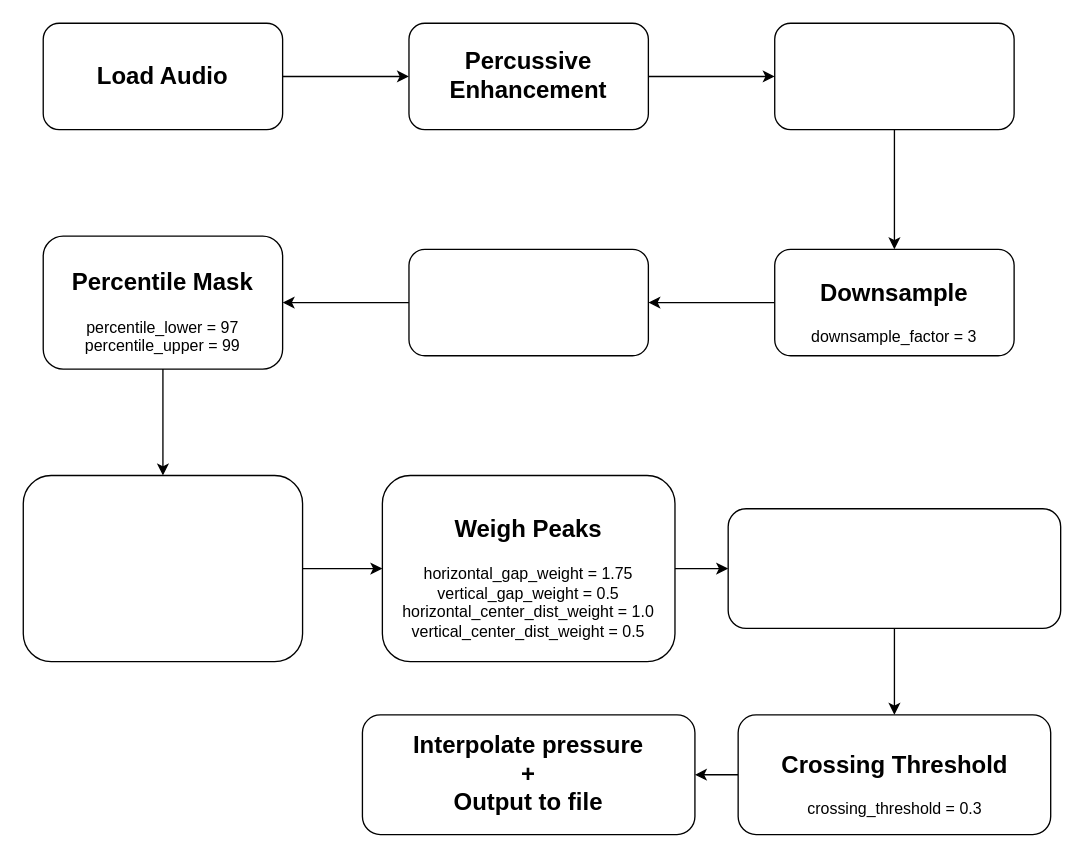
This 1084x861 diagram has some shape labels left out. Here are the shapes that lost their labels. From the top down, the centre of each, then its label:
point (893, 76): Envelope + Rectify
point (528, 302): Median Filter median_filter_window_size = 15
point (162, 568): Peak Detection max_bpm = 120 prominence = 0.01
point (894, 567): Convolve weighted peaks convolution_window_length_seconds = 8
